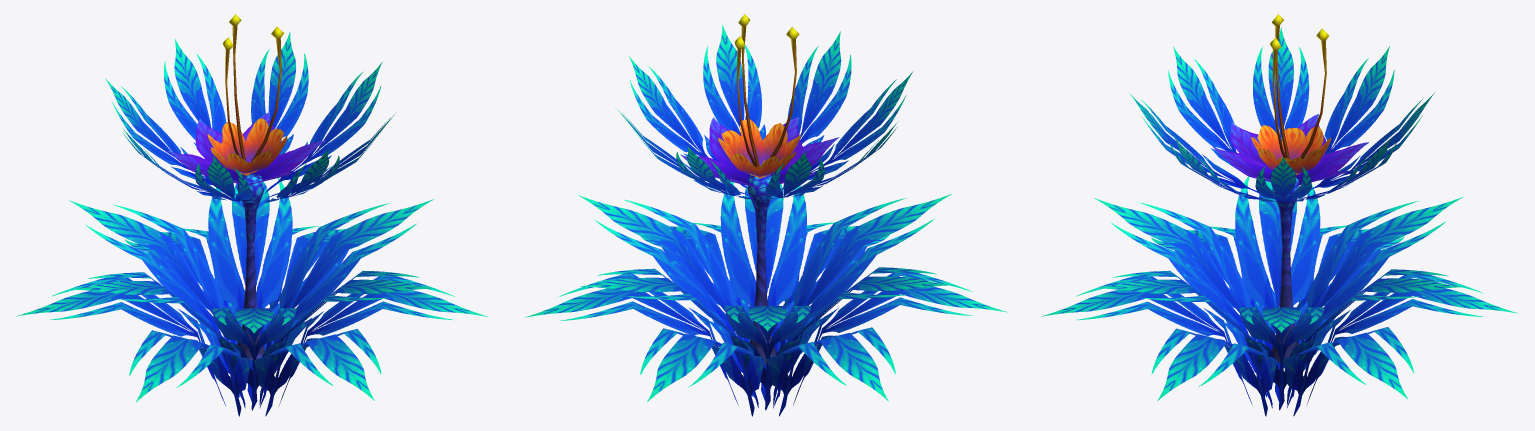
The model's file is Blue_Bush_01c.FBX.
The picture shows the model from 3 angles, left to right: view 1: azimuth 30°, elevation 25°; view 2: azimuth 150°, elevation 25°; view 3: azimuth 270°, elevation 25°; orthographic projection. The views are drawn at different scales.
Visible parts, largest first — view 1: Blue_Bush_01c; view 2: Blue_Bush_01c; view 3: Blue_Bush_01c.
Part boxes in pixels (x1,y1,x2,y2): Blue_Bush_01c: (16, 14, 488, 416); Blue_Bush_01c: (525, 14, 1007, 416); Blue_Bush_01c: (1041, 14, 1518, 416).
Bounding box in the file's own units: 167 × 150 × 172.
